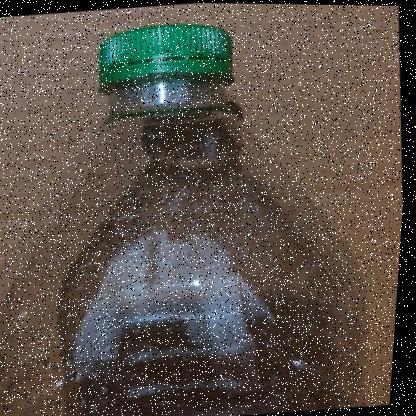bottle cap: (1, 1, 409, 416)
